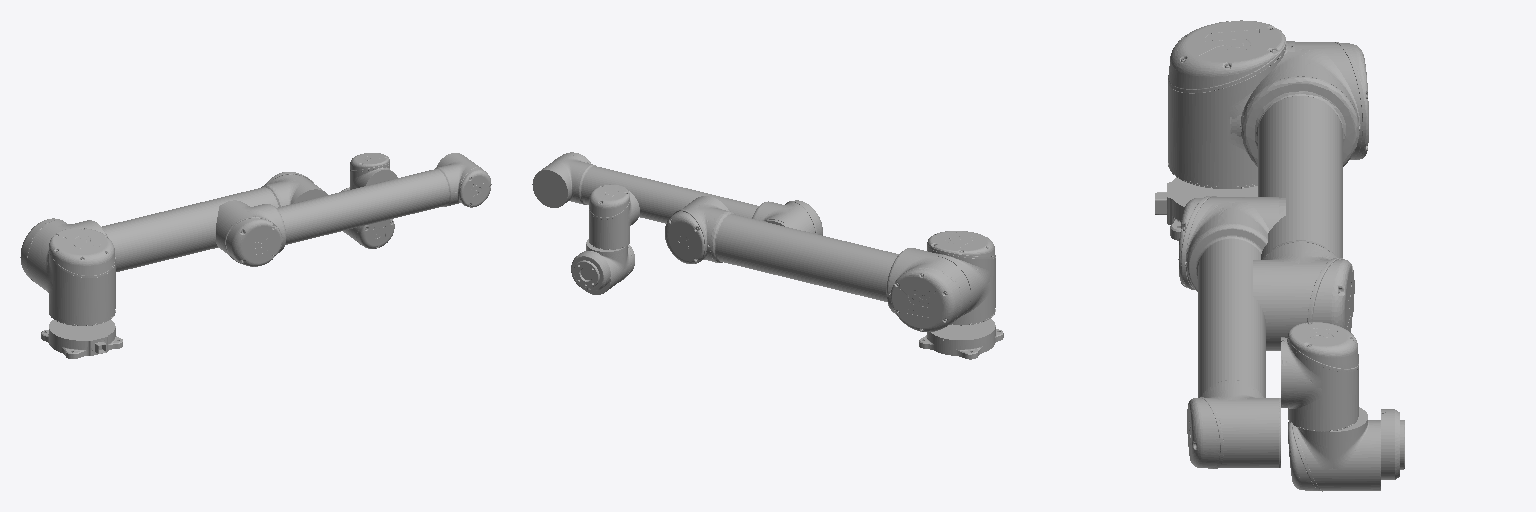
URDF robot description (UR5e):
<?xml version="1.0" encoding="utf-8"?>
<!-- =================================================================================== -->
<!-- |    This document was autogenerated by xacro from ur5e_robot.urdf.xacro          | -->
<!-- |    EDITING THIS FILE BY HAND IS NOT RECOMMENDED                                 | -->
<!-- =================================================================================== -->
<robot name="UR5e">
  <gazebo>
    <plugin filename="libgazebo_ros_control.so" name="ros_control">
      <!--robotNamespace>/</robotNamespace-->
      <!--robotSimType>gazebo_ros_control/DefaultRobotHWSim</robotSimType-->
    </plugin>
    <!--
    <plugin name="gazebo_ros_power_monitor_controller" filename="libgazebo_ros_power_monitor.so">
      <alwaysOn>true</alwaysOn>
      <updateRate>1.0</updateRate>
      <timeout>5</timeout>
      <powerStateTopic>power_state</powerStateTopic>
      <powerStateRate>10.0</powerStateRate>
      <fullChargeCapacity>87.78</fullChargeCapacity>     
      <dischargeRate>-474</dischargeRate>
      <chargeRate>525</chargeRate>
      <dischargeVoltage>15.52</dischargeVoltage>
      <chargeVoltage>16.41</chargeVoltage>
    </plugin>
-->
  </gazebo>
  <!--property name="shoulder_height" value="0.089159" /-->
  <!--property name="shoulder_offset" value="0.13585" /-->
  <!-- shoulder_offset - elbow_offset + wrist_1_length = 0.10915 -->
  <!--property name="upper_arm_length" value="0.42500" /-->
  <!--property name="elbow_offset" value="0.1197" /-->
  <!-- CAD measured -->
  <!--property name="forearm_length" value="0.39225" /-->
  <!--property name="wrist_1_length" value="0.093" /-->
  <!-- CAD measured -->
  <!--property name="wrist_2_length" value="0.09465" /-->
  <!-- In CAD this distance is 0.930, but in the spec it is 0.09465 -->
  <!--property name="wrist_3_length" value="0.0823" /-->
  <!-- manually measured -->
  <link name="base_link">
    <visual>
      <geometry>
        <mesh filename="./meshes/ur5e/visual/base.dae"/>
      </geometry>
      <material name="LightGrey">
        <color rgba="0.7 0.7 0.7 1.0"/>
      </material>
    </visual>
    <collision>
      <geometry>
        <mesh filename="./meshes/ur5e/collision/base.stl"/>
      </geometry>
    </collision>
    <inertial>
      <mass value="4.0"/>
      <origin rpy="0 0 0" xyz="0.0 0.0 0.0"/>
      <inertia ixx="0.00443333156" ixy="0.0" ixz="0.0" iyy="0.00443333156" iyz="0.0" izz="0.0072"/>
    </inertial>
  </link>
  <joint name="shoulder_pan_joint" type="revolute">
    <parent link="base_link"/>
    <child link="shoulder_link"/>
    <origin rpy="0.0 0.0 0.0" xyz="0.0 0.0 0.163"/>
    <axis xyz="0 0 1"/>
    <limit effort="150.0" lower="-6.28318530718" upper="6.28318530718" velocity="3.14"/>
    <dynamics damping="0.0" friction="0.0"/>
  </joint>
  <link name="shoulder_link">
    <visual>
      <geometry>
        <mesh filename="./meshes/ur5e/visual/shoulder.dae"/>
      </geometry>
      <material name="LightGrey">
        <color rgba="0.7 0.7 0.7 1.0"/>
      </material>
    </visual>
    <collision>
      <geometry>
        <mesh filename="./meshes/ur5e/collision/shoulder.stl"/>
      </geometry>
    </collision>
    <inertial>
      <mass value="3.7"/>
      <origin rpy="0 0 0" xyz="0.0 0.0 0.0"/>
      <inertia ixx="0.010267495893" ixy="0.0" ixz="0.0" iyy="0.010267495893" iyz="0.0" izz="0.00666"/>
    </inertial>
  </link>
  <joint name="shoulder_lift_joint" type="revolute">
    <parent link="shoulder_link"/>
    <child link="upper_arm_link"/>
    <origin rpy="0.0 1.57079632679 0.0" xyz="0.0 0.138 0.0"/>
    <axis xyz="0 1 0"/>
    <limit effort="150.0" lower="-6.28318530718" upper="6.28318530718" velocity="3.14"/>
    <dynamics damping="0.0" friction="0.0"/>
  </joint>
  <link name="upper_arm_link">
    <visual>
      <geometry>
        <mesh filename="./meshes/ur5e/visual/upperarm.dae"/>
      </geometry>
      <material name="LightGrey">
        <color rgba="0.7 0.7 0.7 1.0"/>
      </material>
    </visual>
    <collision>
      <geometry>
        <mesh filename="./meshes/ur5e/collision/upperarm.stl"/>
      </geometry>
    </collision>
    <inertial>
      <mass value="8.393"/>
      <origin rpy="0 0 0" xyz="0.0 0.0 0.2125"/>
      <inertia ixx="0.133885781862" ixy="0.0" ixz="0.0" iyy="0.133885781862" iyz="0.0" izz="0.0151074"/>
    </inertial>
  </link>
  <joint name="elbow_joint" type="revolute">
    <parent link="upper_arm_link"/>
    <child link="forearm_link"/>
    <origin rpy="0.0 0.0 0.0" xyz="0.0 -0.131 0.425"/>
    <axis xyz="0 1 0"/>
    <limit effort="150.0" lower="-3.14159265359" upper="3.14159265359" velocity="3.14"/>
    <dynamics damping="0.0" friction="0.0"/>
  </joint>
  <link name="forearm_link">
    <visual>
      <geometry>
        <mesh filename="./meshes/ur5e/visual/forearm.dae"/>
      </geometry>
      <material name="LightGrey">
        <color rgba="0.7 0.7 0.7 1.0"/>
      </material>
    </visual>
    <collision>
      <geometry>
        <mesh filename="./meshes/ur5e/collision/forearm.stl"/>
      </geometry>
    </collision>
    <inertial>
      <mass value="2.275"/>
      <origin rpy="0 0 0" xyz="0.0 0.0 0.196"/>
      <inertia ixx="0.0311796208615" ixy="0.0" ixz="0.0" iyy="0.0311796208615" iyz="0.0" izz="0.004095"/>
    </inertial>
  </link>
  <joint name="wrist_1_joint" type="revolute">
    <parent link="forearm_link"/>
    <child link="wrist_1_link"/>
    <origin rpy="0.0 1.57079632679 0.0" xyz="0.0 0.0 0.392"/>
    <axis xyz="0 1 0"/>
    <limit effort="28.0" lower="-6.28318530718" upper="6.28318530718" velocity="6.28"/>
    <dynamics damping="0.0" friction="0.0"/>
  </joint>
  <link name="wrist_1_link">
    <visual>
      <geometry>
        <mesh filename="./meshes/ur5e/visual/wrist1.dae"/>
      </geometry>
      <material name="LightGrey">
        <color rgba="0.7 0.7 0.7 1.0"/>
      </material>
    </visual>
    <collision>
      <geometry>
        <mesh filename="./meshes/ur5e/collision/wrist1.stl"/>
      </geometry>
    </collision>
    <inertial>
      <mass value="1.219"/>
      <origin rpy="0 0 0" xyz="0.0 0.127 0.0"/>
      <inertia ixx="0.00255989897604" ixy="0.0" ixz="0.0" iyy="0.00255989897604" iyz="0.0" izz="0.0021942"/>
    </inertial>
  </link>
  <joint name="wrist_2_joint" type="revolute">
    <parent link="wrist_1_link"/>
    <child link="wrist_2_link"/>
    <origin rpy="0.0 0.0 0.0" xyz="0.0 0.127 0.0"/>
    <axis xyz="0 0 1"/>
    <limit effort="28.0" lower="-6.28318530718" upper="6.28318530718" velocity="6.28"/>
    <dynamics damping="0.0" friction="0.0"/>
  </joint>
  <link name="wrist_2_link">
    <visual>
      <geometry>
        <mesh filename="./meshes/ur5e/visual/wrist2.dae"/>
      </geometry>
      <material name="LightGrey">
        <color rgba="0.7 0.7 0.7 1.0"/>
      </material>
    </visual>
    <collision>
      <geometry>
        <mesh filename="./meshes/ur5e/collision/wrist2.stl"/>
      </geometry>
    </collision>
    <inertial>
      <mass value="1.219"/>
      <origin rpy="0 0 0" xyz="0.0 0.0 0.1"/>
      <inertia ixx="0.00255989897604" ixy="0.0" ixz="0.0" iyy="0.00255989897604" iyz="0.0" izz="0.0021942"/>
    </inertial>
  </link>
  <joint name="wrist_3_joint" type="revolute">
    <parent link="wrist_2_link"/>
    <child link="wrist_3_link"/>
    <origin rpy="0.0 0.0 0.0" xyz="0.0 0.0 0.1"/>
    <axis xyz="0 1 0"/>
    <limit effort="28.0" lower="-6.28318530718" upper="6.28318530718" velocity="6.28"/>
    <dynamics damping="0.0" friction="0.0"/>
  </joint>
  <link name="wrist_3_link">
    <visual>
      <geometry>
        <mesh filename="./meshes/ur5e/visual/wrist3.dae"/>
      </geometry>
      <material name="LightGrey">
        <color rgba="0.7 0.7 0.7 1.0"/>
      </material>
    </visual>
    <collision>
      <geometry>
        <mesh filename="./meshes/ur5e/collision/wrist3.stl"/>
      </geometry>
    </collision>
    <inertial>
      <mass value="0.1879"/>
      <origin rpy="1.57079632679 0 0" xyz="0.0 0.0771 0.0"/>
      <inertia ixx="9.89041005217e-05" ixy="0.0" ixz="0.0" iyy="9.89041005217e-05" iyz="0.0" izz="0.0001321171875"/>
    </inertial>
  </link>
  <joint name="ee_fixed_joint" type="fixed">
    <parent link="wrist_3_link"/>
    <child link="ee_link"/>
    <origin rpy="0.0 0.0 1.57079632679" xyz="0.0 0.1 0.0"/>
  </joint>
  <link name="ee_link">
    <collision>
      <geometry>
        <box size="0.01 0.01 0.01"/>
      </geometry>
      <origin rpy="0 0 0" xyz="-0.01 0 0"/>
    </collision>
  </link>
  <transmission name="shoulder_pan_trans">
    <type>transmission_interface/SimpleTransmission</type>
    <joint name="shoulder_pan_joint">
      <hardwareInterface>hardware_interface/PositionJointInterface</hardwareInterface>
    </joint>
    <actuator name="shoulder_pan_motor">
      <mechanicalReduction>1</mechanicalReduction>
    </actuator>
  </transmission>
  <transmission name="shoulder_lift_trans">
    <type>transmission_interface/SimpleTransmission</type>
    <joint name="shoulder_lift_joint">
      <hardwareInterface>hardware_interface/PositionJointInterface</hardwareInterface>
    </joint>
    <actuator name="shoulder_lift_motor">
      <mechanicalReduction>1</mechanicalReduction>
    </actuator>
  </transmission>
  <transmission name="elbow_trans">
    <type>transmission_interface/SimpleTransmission</type>
    <joint name="elbow_joint">
      <hardwareInterface>hardware_interface/PositionJointInterface</hardwareInterface>
    </joint>
    <actuator name="elbow_motor">
      <mechanicalReduction>1</mechanicalReduction>
    </actuator>
  </transmission>
  <transmission name="wrist_1_trans">
    <type>transmission_interface/SimpleTransmission</type>
    <joint name="wrist_1_joint">
      <hardwareInterface>hardware_interface/PositionJointInterface</hardwareInterface>
    </joint>
    <actuator name="wrist_1_motor">
      <mechanicalReduction>1</mechanicalReduction>
    </actuator>
  </transmission>
  <transmission name="wrist_2_trans">
    <type>transmission_interface/SimpleTransmission</type>
    <joint name="wrist_2_joint">
      <hardwareInterface>hardware_interface/PositionJointInterface</hardwareInterface>
    </joint>
    <actuator name="wrist_2_motor">
      <mechanicalReduction>1</mechanicalReduction>
    </actuator>
  </transmission>
  <transmission name="wrist_3_trans">
    <type>transmission_interface/SimpleTransmission</type>
    <joint name="wrist_3_joint">
      <hardwareInterface>hardware_interface/PositionJointInterface</hardwareInterface>
    </joint>
    <actuator name="wrist_3_motor">
      <mechanicalReduction>1</mechanicalReduction>
    </actuator>
  </transmission>
  <gazebo reference="shoulder_link">
    <selfCollide>true</selfCollide>
  </gazebo>
  <gazebo reference="upper_arm_link">
    <selfCollide>true</selfCollide>
  </gazebo>
  <gazebo reference="forearm_link">
    <selfCollide>true</selfCollide>
  </gazebo>
  <gazebo reference="wrist_1_link">
    <selfCollide>true</selfCollide>
  </gazebo>
  <gazebo reference="wrist_3_link">
    <selfCollide>true</selfCollide>
  </gazebo>
  <gazebo reference="wrist_2_link">
    <selfCollide>true</selfCollide>
  </gazebo>
  <gazebo reference="ee_link">
    <selfCollide>true</selfCollide>
  </gazebo>
  <!-- ROS base_link to UR 'Base' Coordinates transform -->
  <link name="base"/>
  <joint name="base_link-base_fixed_joint" type="fixed">
    <!-- NOTE: this rotation is only needed as long as base_link itself is
                 not corrected wrt the real robot (ie: rotated over 180
                 degrees)
      -->
    <origin rpy="0 0 -3.14159265359" xyz="0 0 0"/>
    <parent link="base_link"/>
    <child link="base"/>
  </joint>
  <!-- Frame coincident with all-zeros TCP on UR controller -->
  <link name="tool0"/>
  <joint name="wrist_3_link-tool0_fixed_joint" type="fixed">
    <origin rpy="-1.57079632679 0 0" xyz="0 0.1 0"/>
    <parent link="wrist_3_link"/>
    <child link="tool0"/>
  </joint>
  <link name="world"/>
  <joint name="world_joint" type="fixed">
    <parent link="world"/>
    <child link="base_link"/>
    <origin rpy="0.0 0.0 0.0" xyz="0.0 0.0 0.0"/>
  </joint>
</robot>

--- Facts derived from the render (not from the file) ---
Views: 3 orthographic renders of the robot side by side, from view 1: azimuth 30°, elevation 25°; view 2: azimuth 150°, elevation 25°; view 3: azimuth 270°, elevation 25°.
Robot: UR5e — 11 links, 10 joints (6 revolute, 4 fixed); root link world; default pose: every joint at zero.
Links seen in each view (by area): view 1: forearm_link, upper_arm_link, shoulder_link, base_link, wrist_1_link, wrist_2_link; view 2: upper_arm_link, forearm_link, shoulder_link, wrist_1_link, base_link, wrist_3_link, wrist_2_link; view 3: upper_arm_link, forearm_link, shoulder_link, wrist_1_link, wrist_2_link, base_link, wrist_3_link.
Link boxes in pixels (left/top/right/bottom): forearm_link: left=216, top=153, right=491, bottom=266; upper_arm_link: left=20, top=172, right=327, bottom=291; shoulder_link: left=34, top=228, right=115, bottom=325; base_link: left=41, top=320, right=122, bottom=358; wrist_1_link: left=350, top=153, right=397, bottom=189; wrist_2_link: left=343, top=219, right=394, bottom=248; upper_arm_link: left=665, top=196, right=970, bottom=331; forearm_link: left=532, top=152, right=822, bottom=235; shoulder_link: left=927, top=231, right=995, bottom=325; wrist_1_link: left=589, top=184, right=639, bottom=249; base_link: left=919, top=319, right=1003, bottom=359; wrist_3_link: left=571, top=251, right=610, bottom=290; wrist_2_link: left=582, top=239, right=634, bottom=294; upper_arm_link: left=1230, top=42, right=1368, bottom=350; forearm_link: left=1178, top=196, right=1285, bottom=468; shoulder_link: left=1168, top=20, right=1294, bottom=188; wrist_1_link: left=1281, top=322, right=1358, bottom=431; wrist_2_link: left=1288, top=407, right=1380, bottom=491; base_link: left=1155, top=177, right=1257, bottom=240; wrist_3_link: left=1381, top=409, right=1404, bottom=479.
Size in the robot's own frame: 1.12 by 0.3181 by 0.2512 metres.
Meshes: 7 distinct files referenced, 7 mesh visuals loaded (7 Collada DAE).